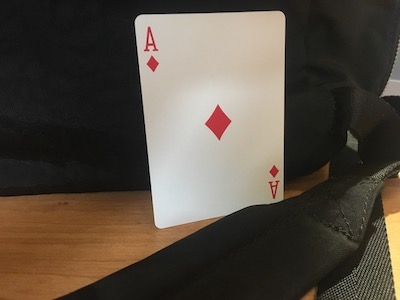AceOfDiamonds: (130, 9, 290, 229)
